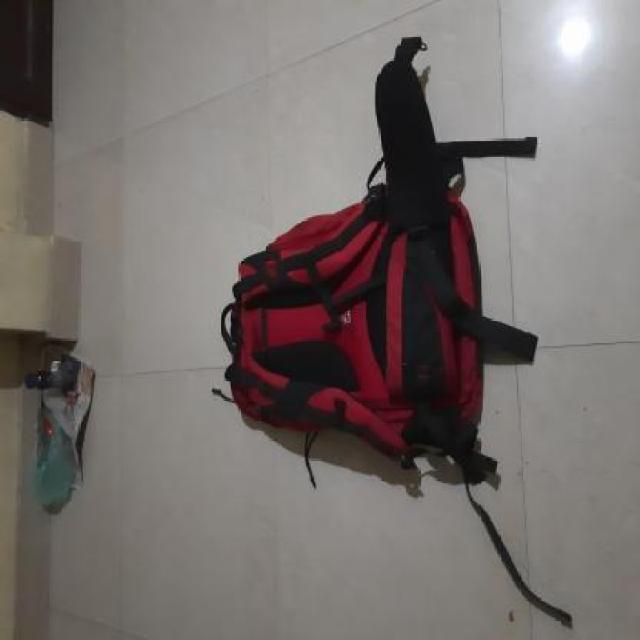backpack: (210, 169, 508, 497)
